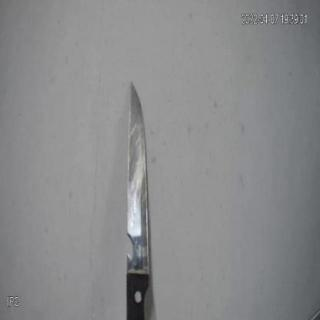knife: (123, 82, 161, 320)
